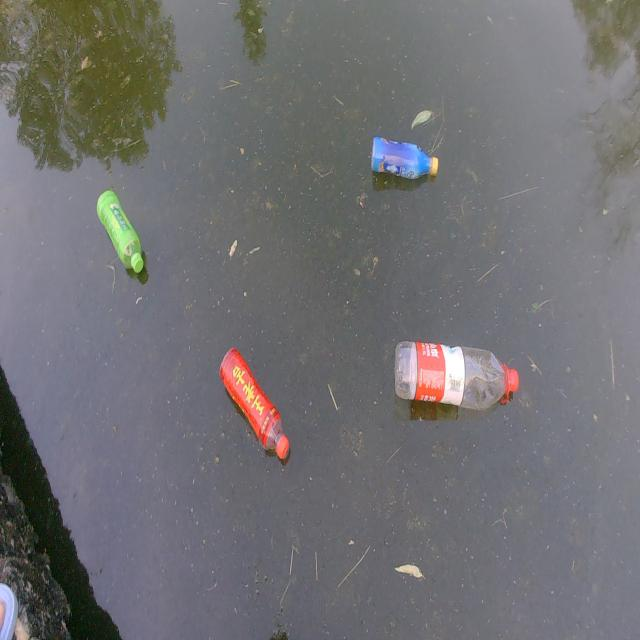Bottle: (391, 332, 520, 414), (218, 343, 290, 464), (91, 186, 146, 274), (369, 132, 440, 183)
